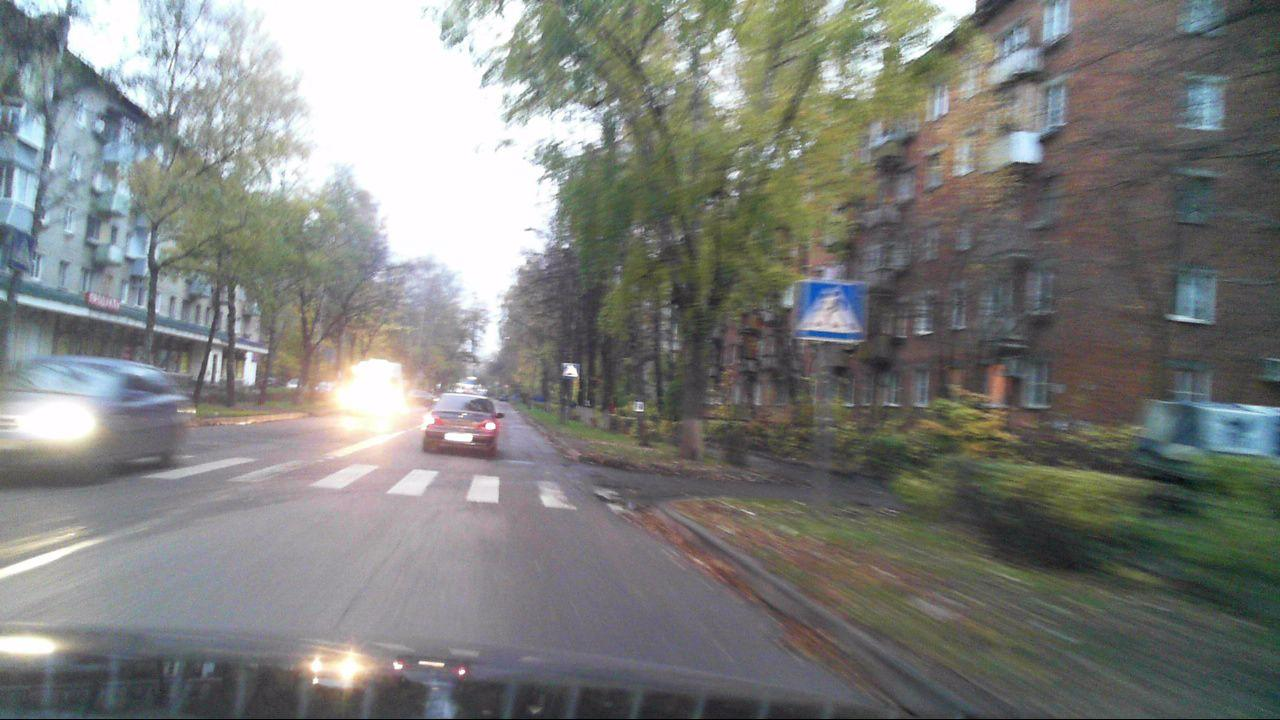5_19_1: (796, 276, 866, 346)
5_20: (561, 362, 578, 379)
